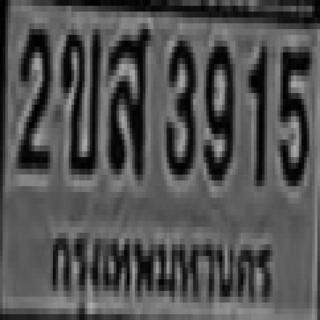A02: (59, 23, 99, 169)
A40: (106, 23, 148, 169)
N01: (246, 41, 264, 180)
N02: (16, 23, 50, 163)
N03: (164, 35, 193, 175)
N05: (278, 41, 309, 180)
N09: (204, 35, 233, 175)
P04: (42, 221, 276, 312)
